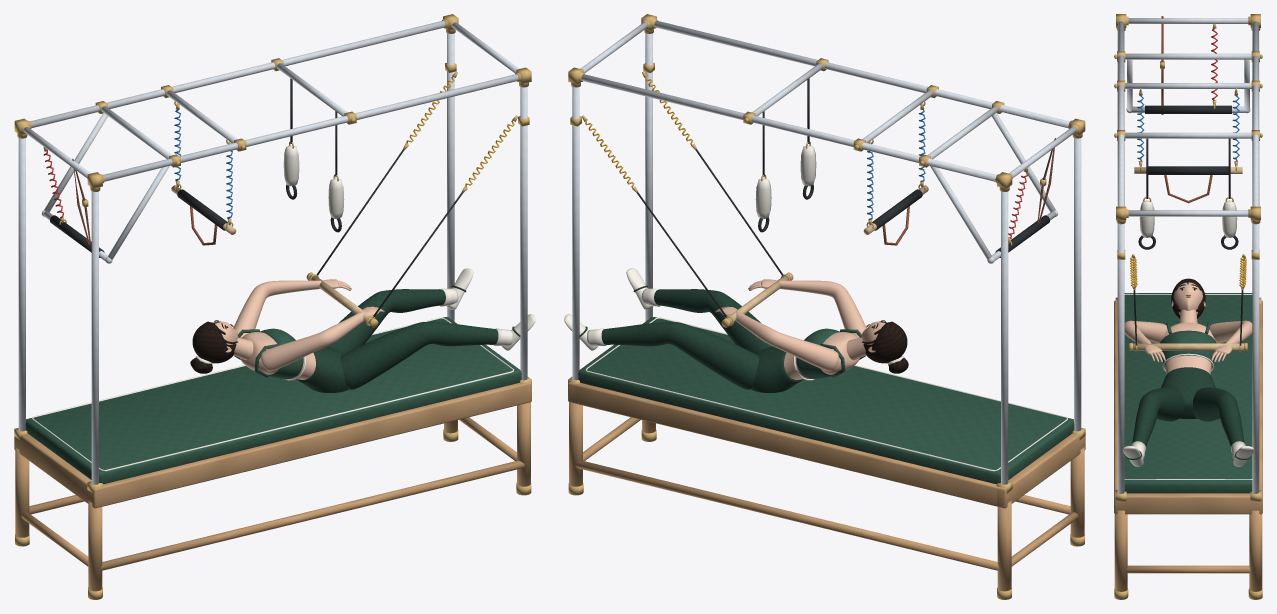
Rendered from cadillac-studio-rig.glb.
3 views of the same model, side by side, from view 1: azimuth 30°, elevation 25°; view 2: azimuth 150°, elevation 25°; view 3: azimuth 270°, elevation 25° (orthographic). The views are drawn at different scales.
Parts seen in each view (by area): view 1: SM_Studio_Dielectric, SM_Studio_Metallic; view 2: SM_Studio_Dielectric, SM_Studio_Metallic; view 3: SM_Studio_Dielectric, SM_Studio_Metallic.
Part boxes in pixels (x1,y1,x2,y2): SM_Studio_Dielectric: (14,78,535,591); SM_Studio_Metallic: (14,14,531,599); SM_Studio_Dielectric: (564,78,1085,591); SM_Studio_Metallic: (568,14,1085,599); SM_Studio_Dielectric: (1114,16,1262,591); SM_Studio_Metallic: (1114,14,1262,599).
Size of the model in its own units: 2.21 by 1.98 by 0.686.
2 materials, 2 textured.
